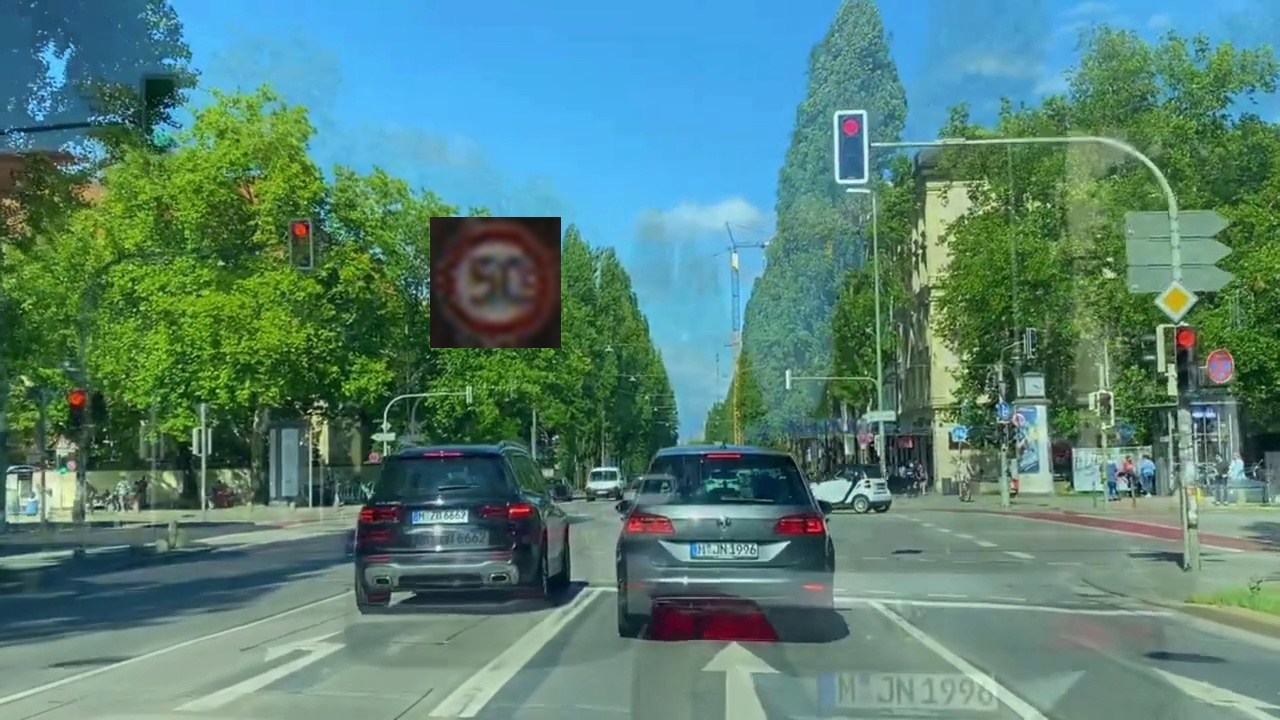Speed 50: (430, 217, 561, 348)
